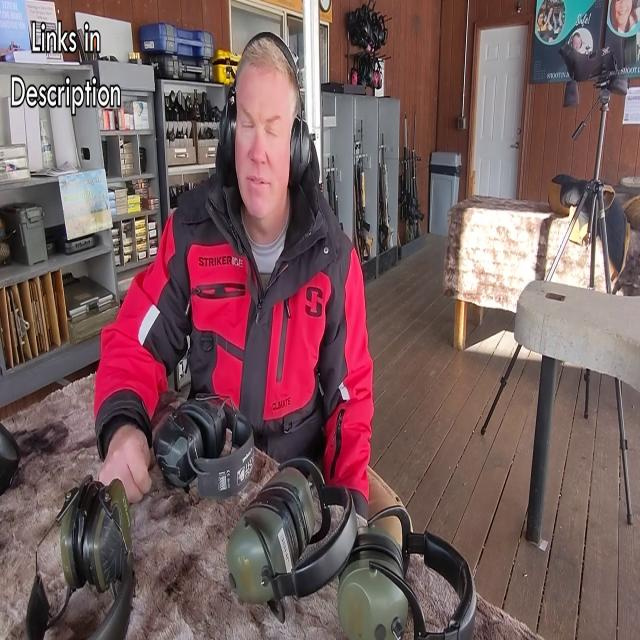earmuff: (287, 112, 318, 192), (218, 89, 239, 173)
